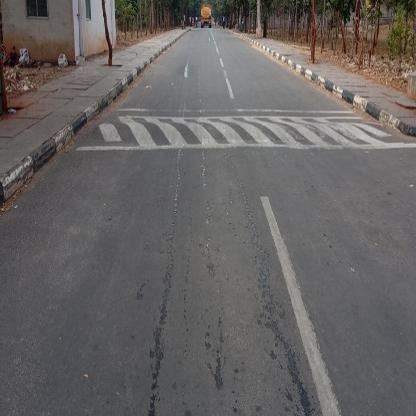speed-bumps: (74, 104, 416, 154)
